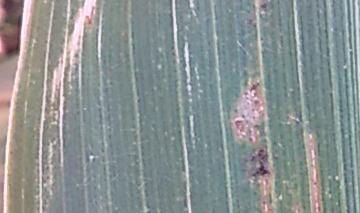tarspot: (247, 148, 273, 178), (258, 2, 271, 11), (246, 17, 256, 26)
